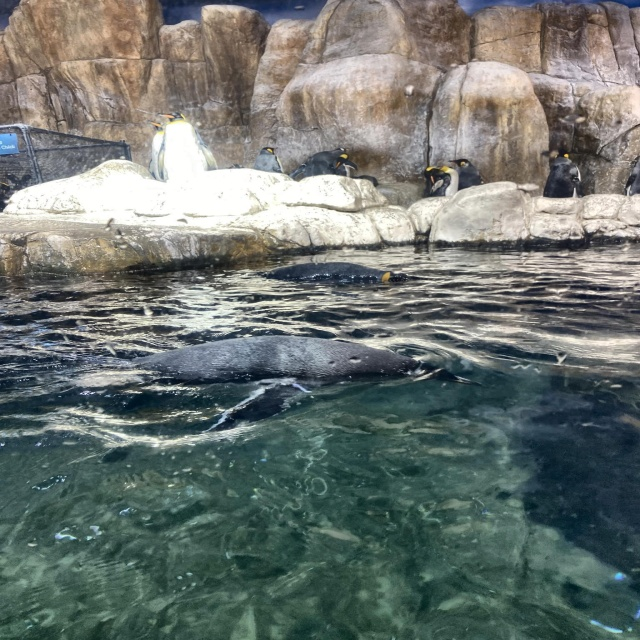penguin: (92, 334, 450, 429), (262, 256, 414, 293), (164, 109, 222, 181), (542, 141, 587, 200), (420, 163, 462, 207), (147, 123, 175, 179), (242, 144, 286, 179), (451, 153, 488, 193), (335, 152, 370, 188), (303, 143, 351, 168), (625, 150, 639, 196)
